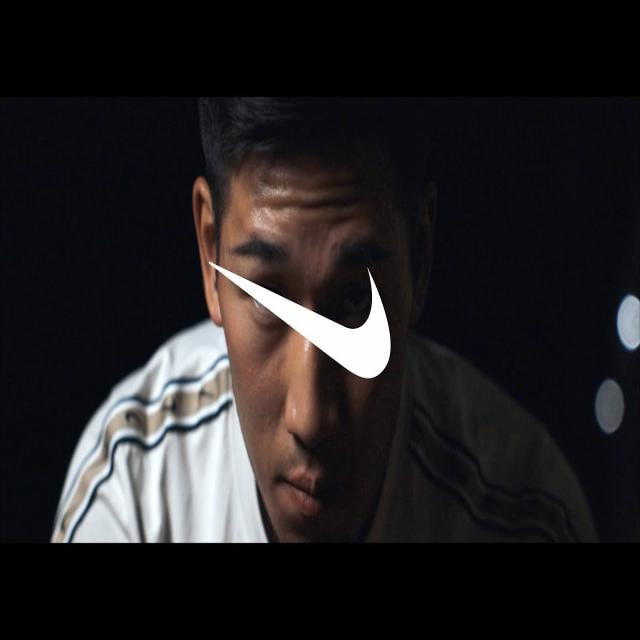nike: (203, 251, 394, 418)
